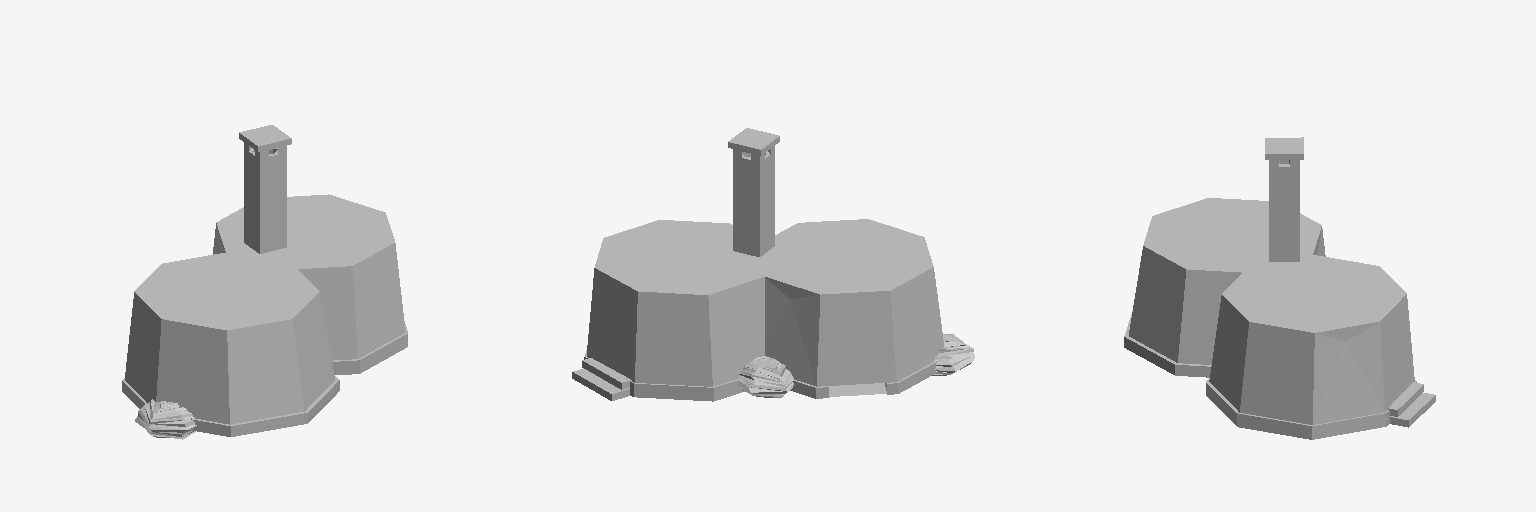
File: base_casa1.obj
The picture shows the model from 3 angles: view 1: azimuth 30°, elevation 25°; view 2: azimuth 150°, elevation 25°; view 3: azimuth 270°, elevation 25°; orthographic projection.
Parts seen in each view (by area): view 1: Circle.003, Circle, Cube, Sphere.002; view 2: Circle.003, Circle, Cube, Sphere.001, Sphere.002, Cube.011, Cube.010; view 3: Circle, Circle.003, Cube, Cube.011, Cube.010.
Boxes of the visible parts, <box> form: Circle.003: <box>122,252,339,436</box>; Circle: <box>213,194,407,374</box>; Cube: <box>239,125,291,253</box>; Sphere.002: <box>135,399,196,439</box>; Circle.003: <box>764,219,943,398</box>; Circle: <box>584,220,772,401</box>; Cube: <box>728,128,779,256</box>; Sphere.001: <box>738,356,793,397</box>; Sphere.002: <box>932,334,974,375</box>; Cube.011: <box>572,368,630,400</box>; Cube.010: <box>582,358,631,389</box>; Circle: <box>1206,255,1416,439</box>; Circle.003: <box>1124,198,1325,377</box>; Cube: <box>1265,137,1303,261</box>; Cube.011: <box>1390,393,1435,427</box>; Cube.010: <box>1388,382,1423,416</box>.
Bounding box in the file's own units: 9.78 × 6.88 × 8.37.